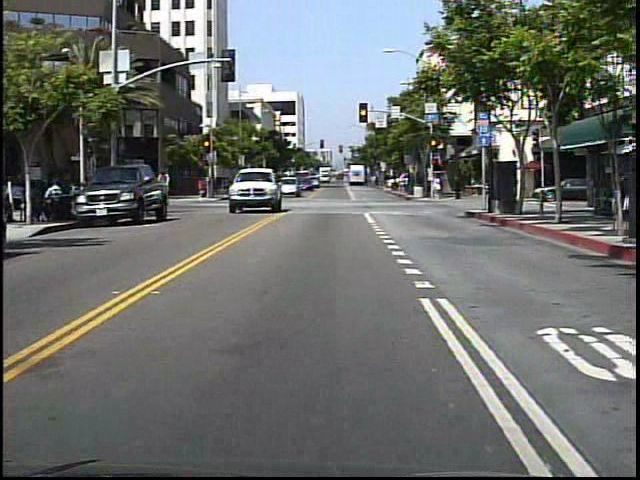person: (153, 168, 175, 205), (451, 172, 465, 205), (431, 175, 444, 199), (199, 175, 209, 199)
